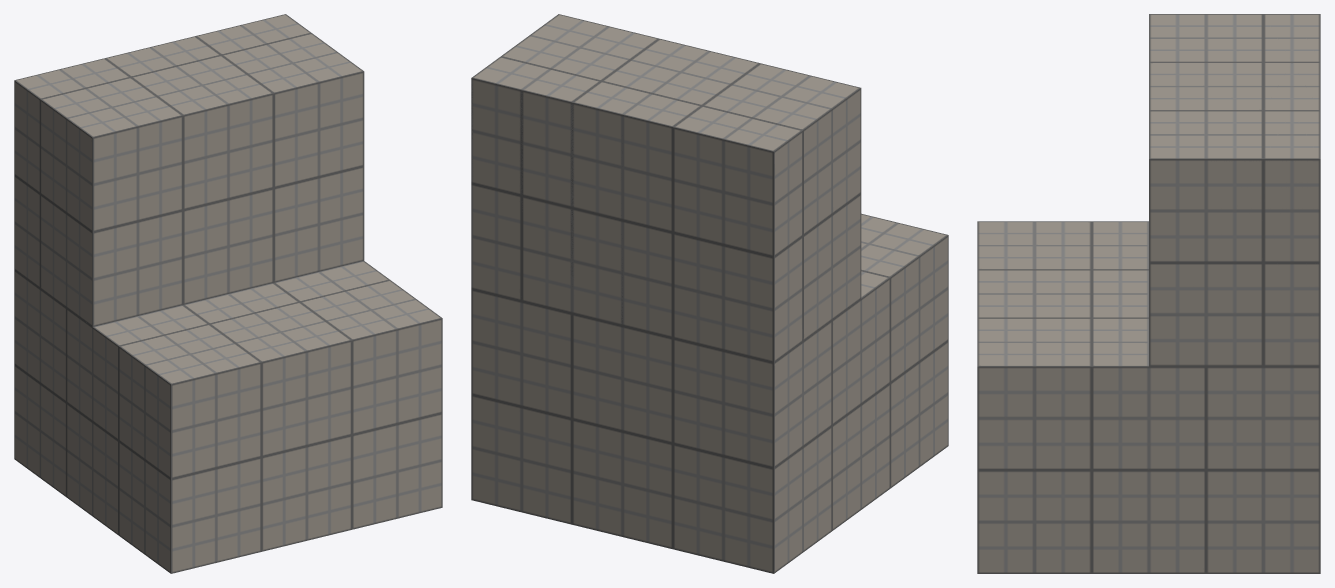
Rendered from LevelPieces.FBX.
3 renders of one model, left to right at view 1: azimuth 30°, elevation 25°; view 2: azimuth 150°, elevation 25°; view 3: azimuth 270°, elevation 25°, orthographic. The views are drawn at different scales.
Visible parts, largest first — view 1: Voxel, WallHalf; view 2: Voxel, WallHalf, WallCorner; view 3: Voxel, WallHalf, WallCorner.
Part boxes in pixels (box(x1,y1,x2,y2)): Voxel: box(14, 261, 442, 573); WallHalf: box(14, 14, 364, 326); Voxel: box(471, 213, 948, 573); WallHalf: box(471, 14, 861, 362); WallCorner: box(471, 78, 622, 325); Voxel: box(977, 221, 1320, 573); WallHalf: box(1149, 14, 1320, 366); WallCorner: box(1211, 159, 1320, 366).
Size of the model in its own units: 3 by 4 by 3.
